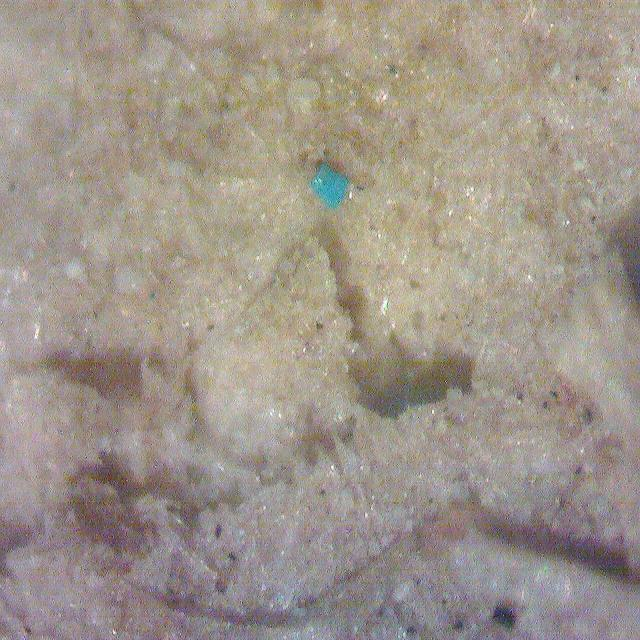microplastic: (308, 161, 350, 212)
